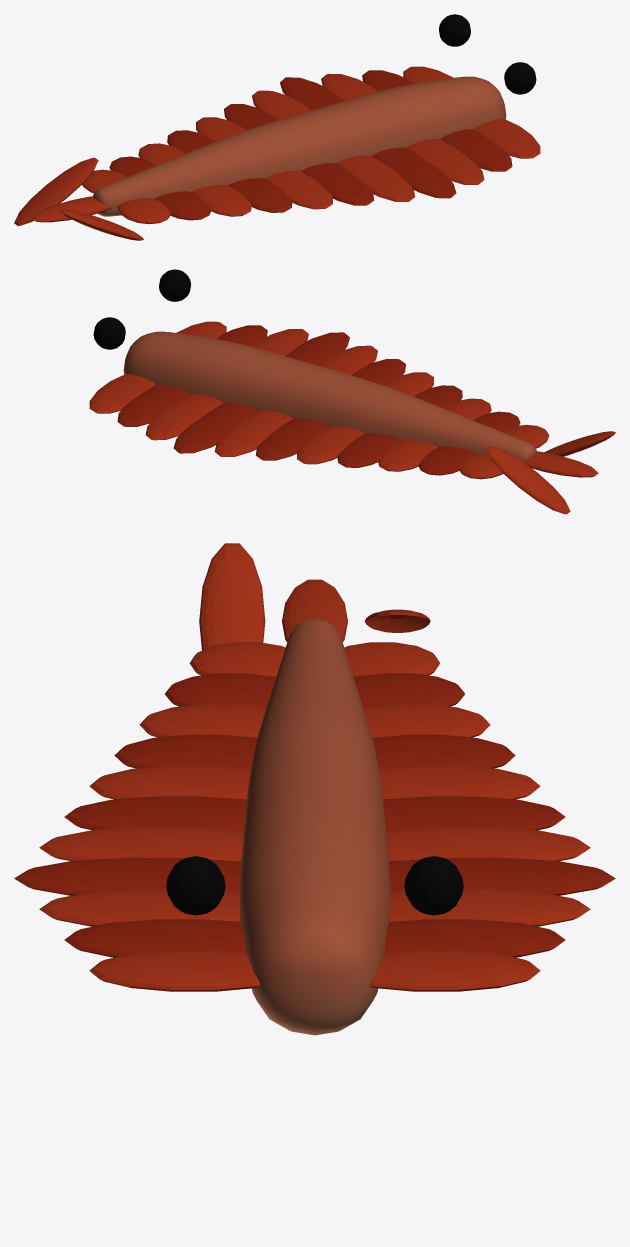
Rendered from anomalocaris.glb.
3 renders of one model, top to bottom at view 1: azimuth 30°, elevation 25°; view 2: azimuth 150°, elevation 25°; view 3: azimuth 270°, elevation 25°, orthographic. The views are drawn at different scales.
Parts seen in each view (by area): view 1: corpo; view 2: corpo; view 3: corpo.
Boxes of the visible parts, box(x1,y1,x2,y2) form: corpo: box(14, 14, 540, 240); corpo: box(89, 269, 615, 514); corpo: box(14, 543, 615, 1035).
Size of the model in its own units: 3.64 by 0.9657 by 1.82.
